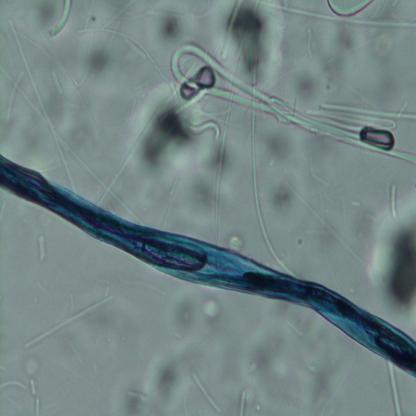Air bubble: (315, 102, 416, 124), (179, 65, 213, 97), (360, 126, 396, 152)
Background material: (129, 82, 197, 171), (370, 193, 416, 312), (244, 324, 299, 405), (226, 0, 280, 76), (121, 354, 184, 414), (173, 288, 226, 338), (296, 48, 344, 102), (151, 6, 193, 48), (82, 40, 121, 80), (263, 128, 294, 168), (206, 139, 238, 177), (268, 177, 294, 212), (5, 68, 24, 115), (183, 118, 221, 140), (228, 233, 243, 250)
Cotton: (0, 150, 416, 376)
Glass filter fibre: (170, 42, 416, 165), (8, 18, 76, 193), (246, 64, 293, 272), (78, 21, 167, 84), (22, 294, 113, 350), (262, 1, 416, 33), (193, 374, 226, 416), (324, 0, 375, 19), (48, 1, 72, 40), (386, 361, 402, 415), (0, 376, 27, 391), (389, 181, 398, 220), (36, 235, 47, 262), (51, 70, 62, 94), (238, 388, 246, 416), (28, 378, 38, 397), (33, 396, 42, 416)
